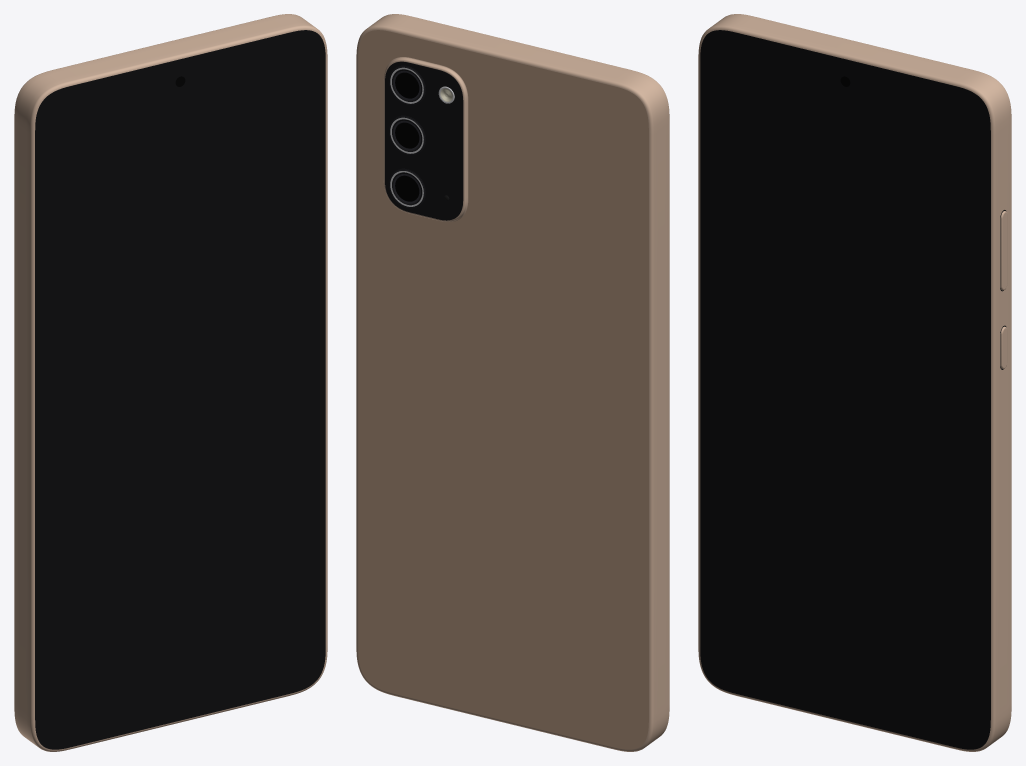
Rendered from galaxy-note20.glb.
3 renders of one model, left to right at view 1: azimuth 30°, elevation 25°; view 2: azimuth 150°, elevation 25°; view 3: azimuth 330°, elevation 25°, orthographic.
Visible parts, largest first — view 1: body; view 2: body, camera; view 3: body, buttons.
Part boxes in pixels (x1,y1,x2,y2): body: (14,14,327,751); body: (356,14,669,751); camera: (383,57,468,221); body: (698,14,1011,751); buttons: (1000,210,1007,369).
Bounding box in the file's own units: 75.63 × 162 × 9.52.
